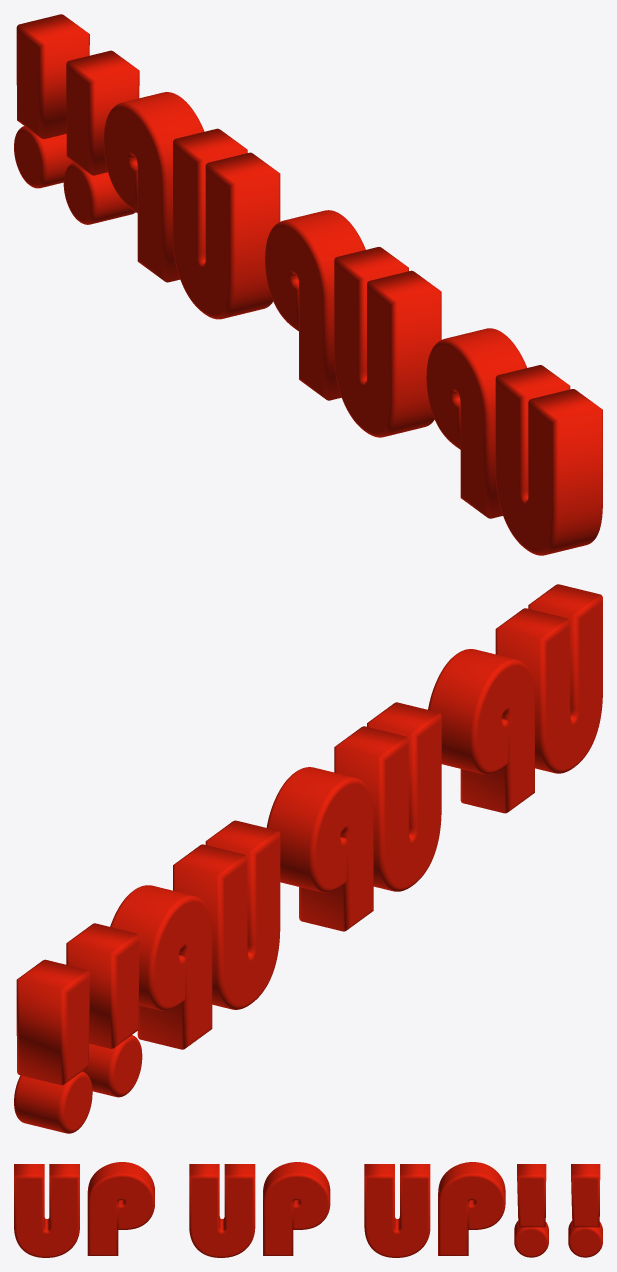
Rendered from Upupup.fbx.
3 renders of one model, top to bottom at view 1: azimuth 30°, elevation 25°; view 2: azimuth 150°, elevation 25°; view 3: azimuth 270°, elevation 25°, orthographic. The views are drawn at different scales.
Parts seen in each view (by area): view 1: Text; view 2: Text; view 3: Text.
Boxes of the visible parts, x1,y1,x2,y2 form: Text: (14, 14, 602, 555); Text: (14, 584, 602, 1133); Text: (14, 1162, 602, 1257).
Size of the model in its own units: 22 by 64.9 by 410.
